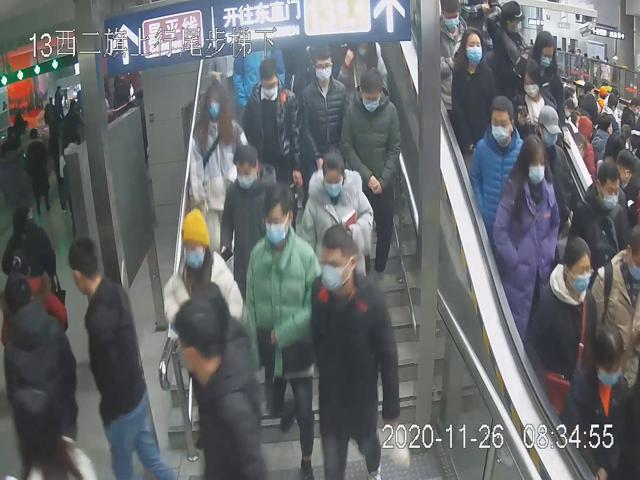person: (308, 225, 408, 480), (244, 185, 316, 480), (493, 132, 560, 348), (522, 232, 598, 422), (340, 64, 401, 282), (164, 208, 243, 345), (298, 148, 374, 284), (187, 80, 250, 231), (221, 144, 279, 291), (471, 93, 525, 239), (240, 53, 298, 180), (451, 24, 494, 171), (299, 48, 348, 163)
